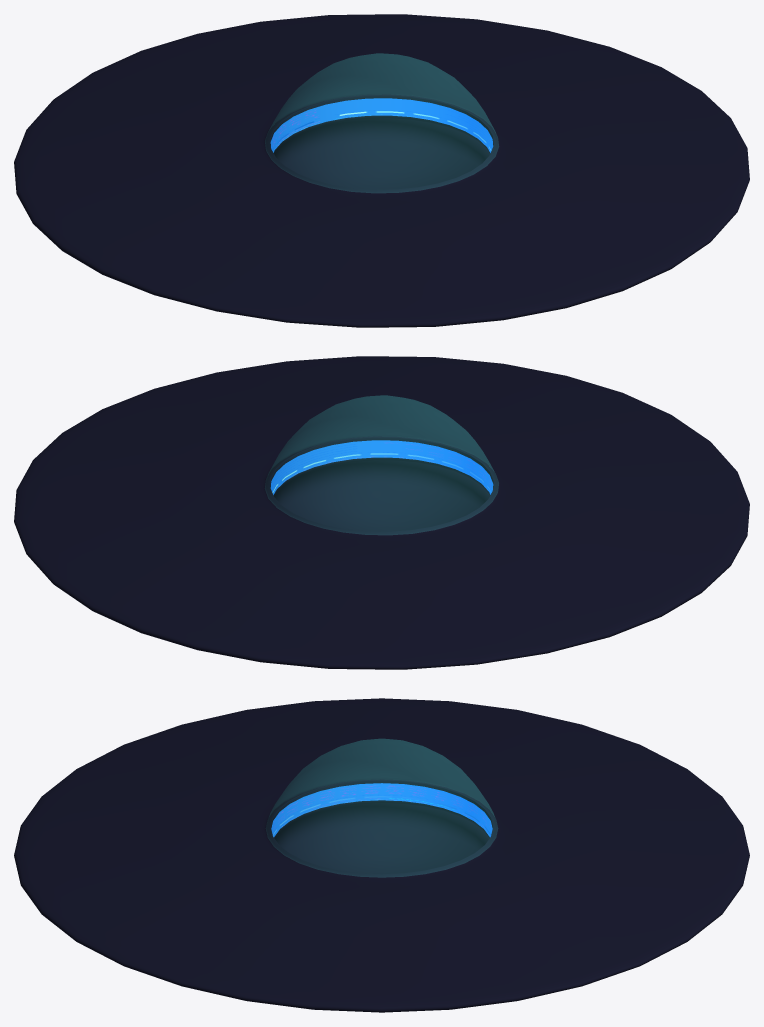
File: ufo_large.glb
The picture shows the model from 3 angles, top to bottom: view 1: azimuth 30°, elevation 25°; view 2: azimuth 150°, elevation 25°; view 3: azimuth 270°, elevation 25°; orthographic projection.
Parts seen in each view (by area): view 1: Quadsphere; view 2: Quadsphere; view 3: Quadsphere.
Part boxes in pixels (x1=…): Quadsphere: x1=14, y1=14, x2=749, y2=327; Quadsphere: x1=14, y1=356, x2=749, y2=669; Quadsphere: x1=14, y1=698, x2=749, y2=1012.
Size of the model in its own units: 11.3 by 2.63 by 11.3.
Materials: 4 (1 with a texture image).
